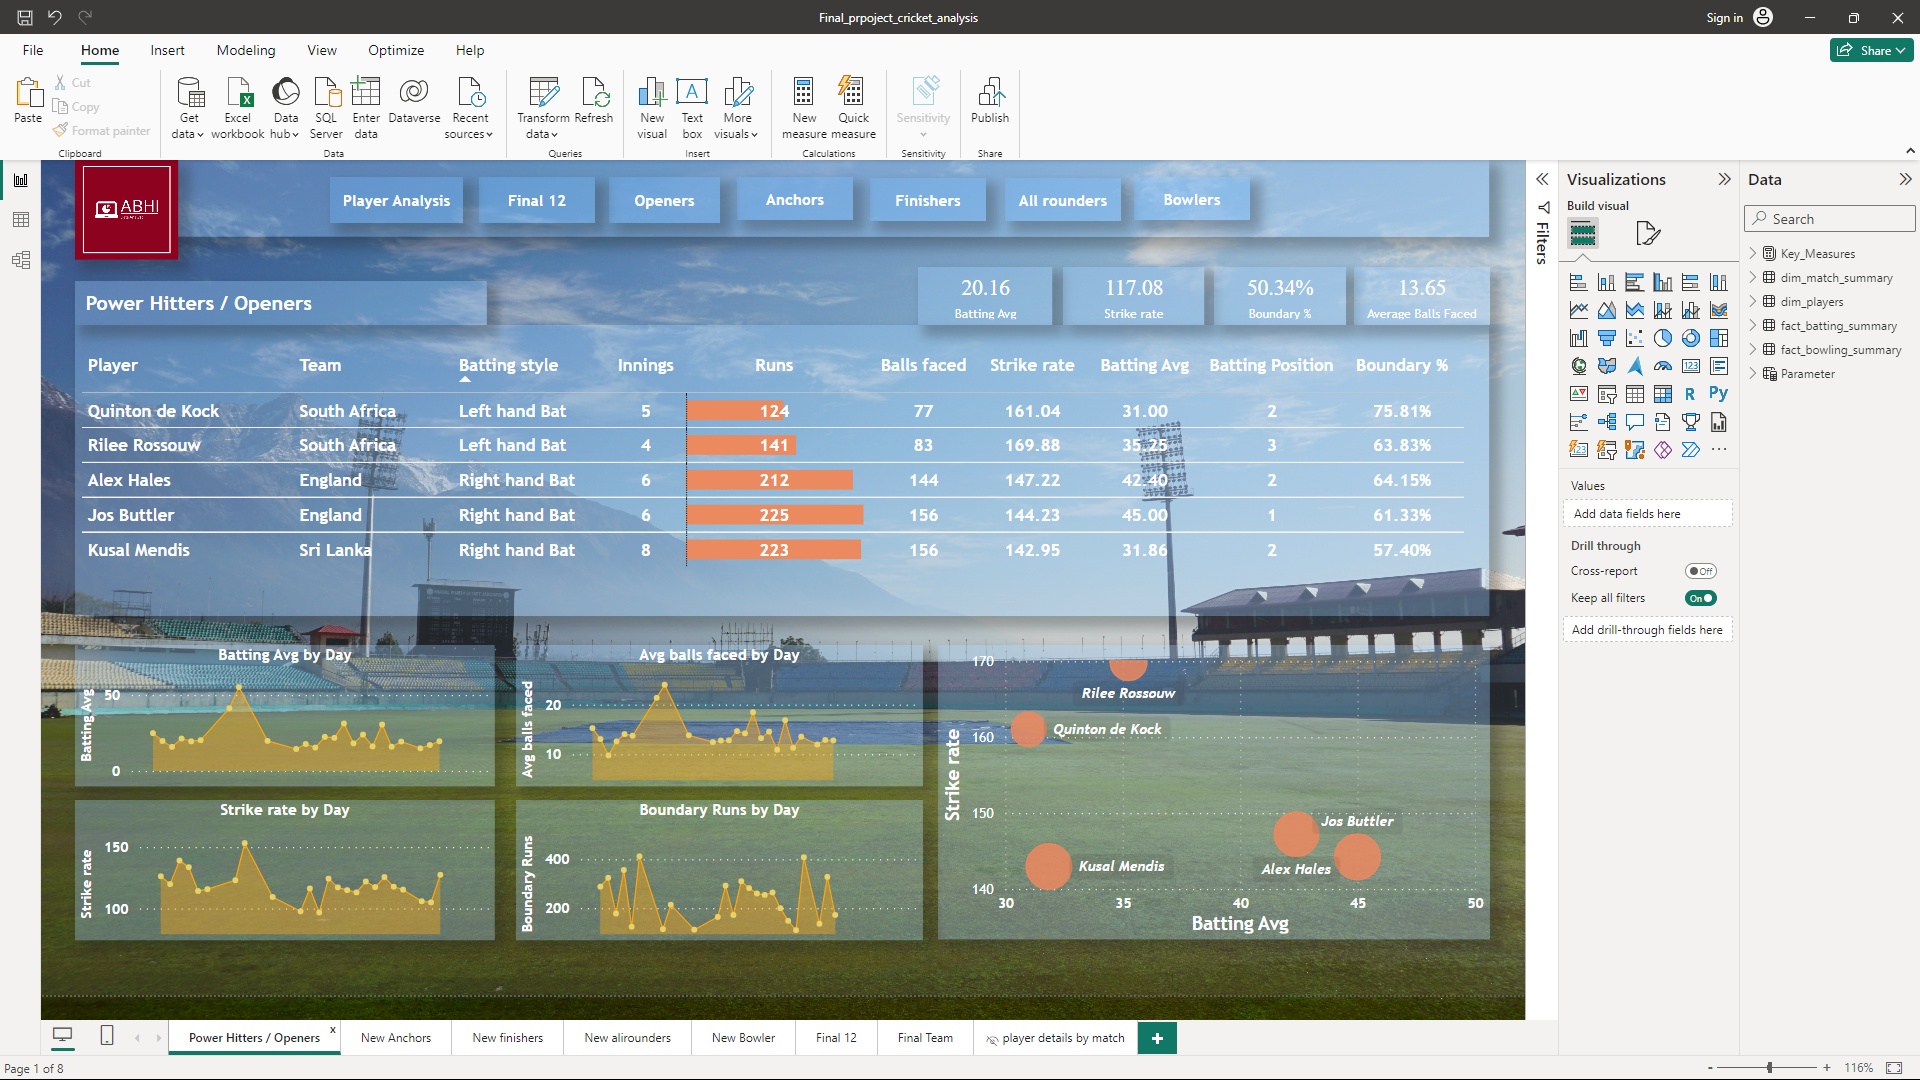

The page's visual inventory and layout, read from the dashboard file:
{"tool":"powerbi","page":{"name":"New Anchors","canvas":[1280,720],"ordinal":4},"visuals":[{"type":"shape","box":[29.3,0,1220.5,66.4],"z":0},{"type":"shape","box":[29.3,104.4,355.4,38],"z":1000},{"type":"areaChart","fields":{"Y":["Key_Measures.Batting Avg"],"Category":["dim_match_summary.matchDate.Variation.Date Hierarchy.Day"]},"box":[29.3,418.3,362.3,121.6],"z":2000},{"type":"areaChart","fields":{"Y":["Key_Measures.Average Balls Faced"],"Category":["dim_match_summary.matchDate.Variation.Date Hierarchy.Day"]},"box":[409.7,418.3,351.1,121.6],"z":3000},{"type":"areaChart","fields":{"Y":["Key_Measures.Strike rate"],"Category":["dim_match_summary.matchDate.Variation.Date Hierarchy.Day"]},"box":[29.3,552,362.3,120.8],"z":4000},{"type":"areaChart","fields":{"Y":["Sum(fact_batting_summary.boundary runs)"],"Category":["dim_match_summary.matchDate.Variation.Date Hierarchy.Day"]},"box":[409.7,552,351.1,120.8],"z":5000},{"type":"image","box":[29.3,0,88.8,86.3],"z":6000},{"type":"actionButton","box":[715,15.5,100.1,37.1],"z":7000},{"type":"actionButton","box":[831.5,15.5,100.1,37.1],"z":8000},{"type":"actionButton","box":[942.7,14.7,100.1,37.1],"z":9000},{"type":"actionButton","box":[600.3,14.7,100.1,37.1],"z":10000},{"type":"actionButton","box":[489.9,14.7,95.7,39.7],"z":11000},{"type":"actionButton","box":[377.8,14.7,100.1,39.7],"z":12000},{"type":"actionButton","box":[249.3,14.7,114.7,39.7],"z":13000},{"type":"tableEx","fields":{"Values":["dim_player.name","dim_player.team","dim_player.Batting Style","Key_Measures.Total Matches","Key_Measures.Total Runs","Key_Measures.Avergate Balls Faced","Key_Measures.Strike rate","Key_Measures.Bat Avg","Key_Measures.Batting Position","Key_Measures.Boundary %"]},"box":[29.3,142.3,1220.5,263.9],"z":14000},{"type":"card","fields":{"Values":["Key_Measures.Bat Avg"]},"box":[875.5,93.2,111.3,49.2],"z":15000},{"type":"card","fields":{"Values":["Key_Measures.Strike rate"]},"box":[1135.1,93.2,114.7,49.2],"z":16000},{"type":"card","fields":{"Values":["Key_Measures.Avergate Balls Faced"]},"box":[999.7,93.2,125.1,49.2],"z":17000},{"type":"scatterChart","fields":{"Y":["Key_Measures.Strike rate"],"Category":["dim_player.name"],"X":["Key_Measures.Bat Avg"],"Series":["dim_player.name"],"Size":["Key_Measures.Total Runs"]},"box":[778,418.3,471.8,254.4],"z":18000}]}

Visuals, with their boxes on the page's 1280x720 design canvas (x1, y1, x2, y2). These are canvas units, not pixel positions in the 1920x1080 screenshot, which may show the page scaled, cropped or inside an application window:
shape: bbox=[29, 0, 1250, 66]
shape: bbox=[29, 104, 385, 142]
areaChart - Key_Measures.Batting Avg x dim_match_summary.matchDate.Variation.Date Hierarchy.Day: bbox=[29, 418, 392, 540]
areaChart - Key_Measures.Average Balls Faced x dim_match_summary.matchDate.Variation.Date Hierarchy.Day: bbox=[410, 418, 761, 540]
areaChart - Key_Measures.Strike rate x dim_match_summary.matchDate.Variation.Date Hierarchy.Day: bbox=[29, 552, 392, 673]
areaChart - Sum(fact_batting_summary.boundary runs) x dim_match_summary.matchDate.Variation.Date Hierarchy.Day: bbox=[410, 552, 761, 673]
image: bbox=[29, 0, 118, 86]
actionButton: bbox=[715, 16, 815, 53]
actionButton: bbox=[832, 16, 932, 53]
actionButton: bbox=[943, 15, 1043, 52]
actionButton: bbox=[600, 15, 700, 52]
actionButton: bbox=[490, 15, 586, 54]
actionButton: bbox=[378, 15, 478, 54]
actionButton: bbox=[249, 15, 364, 54]
tableEx - dim_player.name x dim_player.team: bbox=[29, 142, 1250, 406]
card - Key_Measures.Bat Avg: bbox=[876, 93, 987, 142]
card - Key_Measures.Strike rate: bbox=[1135, 93, 1250, 142]
card - Key_Measures.Avergate Balls Faced: bbox=[1000, 93, 1125, 142]
scatterChart - Key_Measures.Strike rate x dim_player.name: bbox=[778, 418, 1250, 673]
